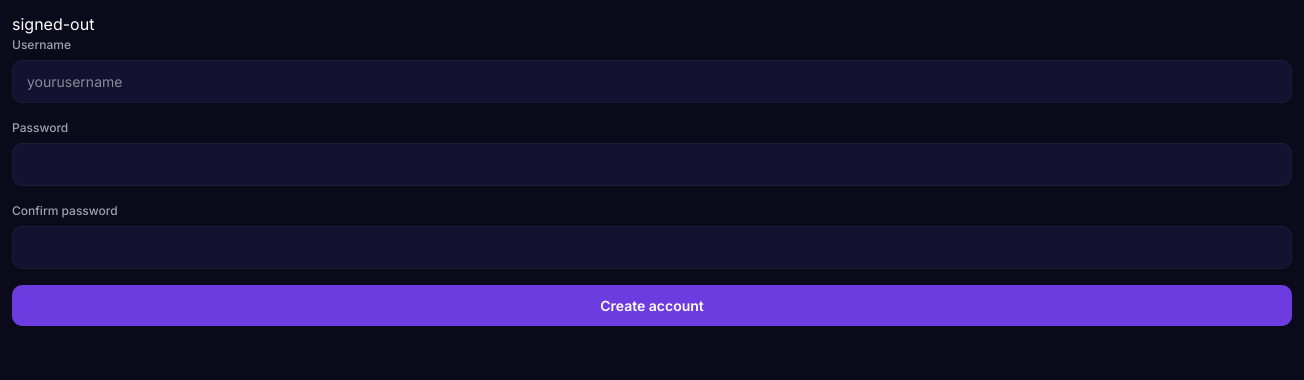
Test: RegisterForm › error path: password below the strength minimum blocks submission before any crypto or network work starts
Type "alice_1" into the field labelled "Username".
click(652, 82); type("alice_1")  # box [12,60,1292,103]
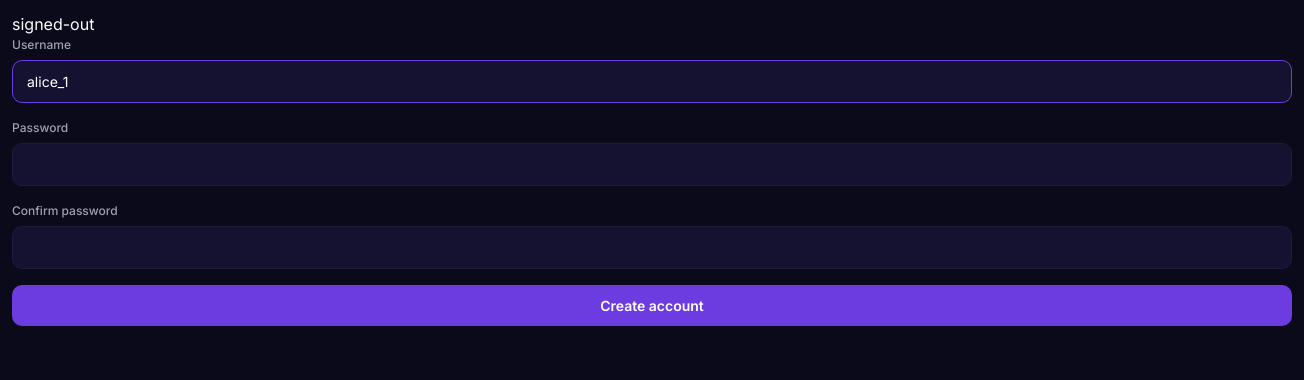
Type "short1" into the password field labelled "Password".
click(652, 164); type("short1")  # box [12,143,1292,186]
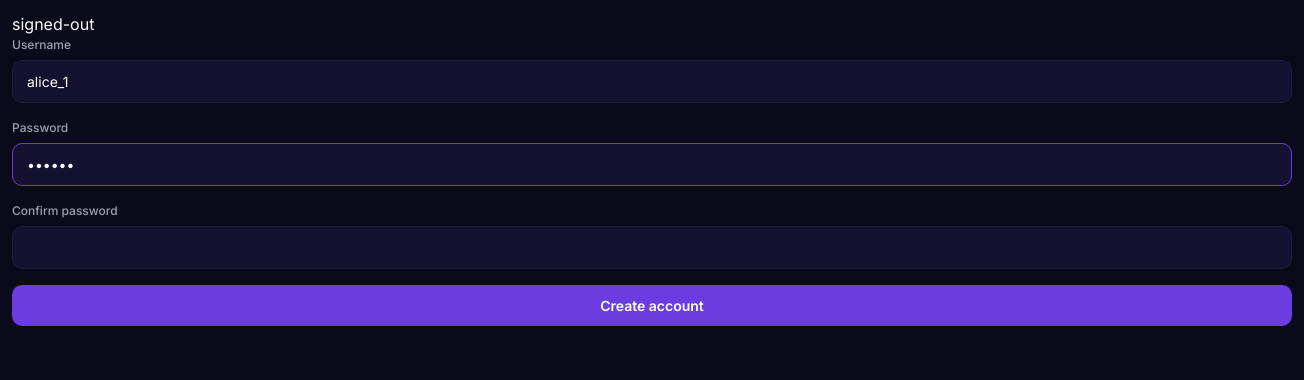
Type "short1" into the password field labelled "Confirm password".
click(652, 248); type("short1")  # box [12,226,1292,269]
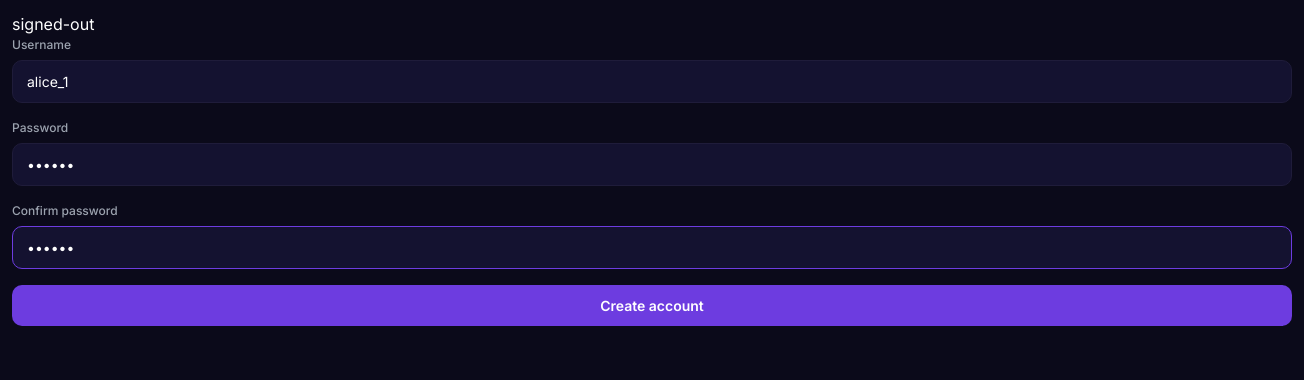
Click the button "Create account".
click(652, 306)  # box [12,285,1292,326]
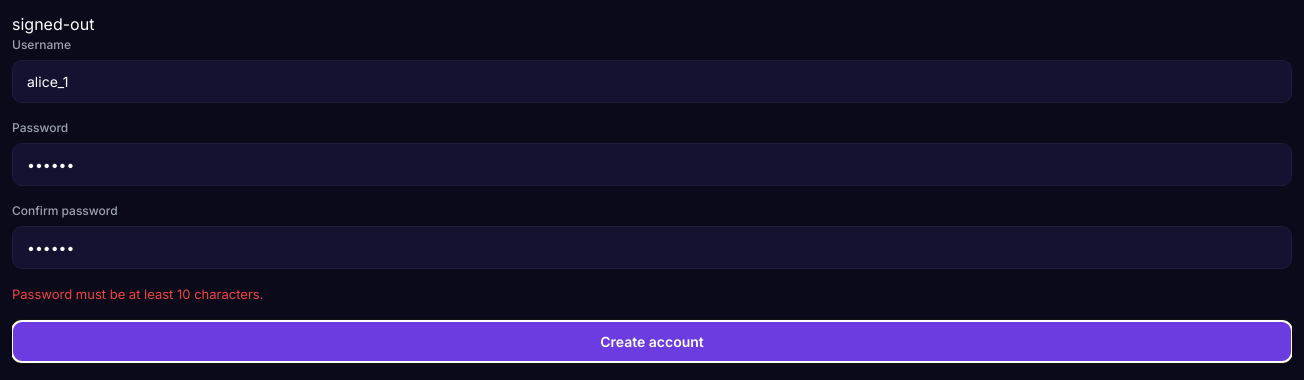
Check: the message shows "at least", box [12,286,263,302]
